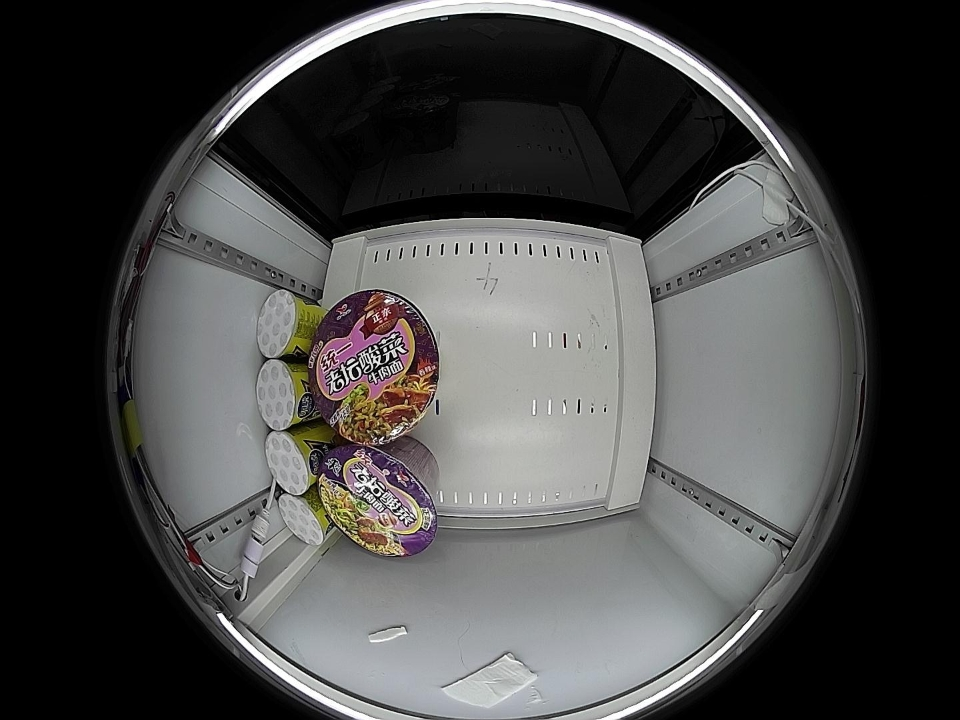kebike: (256, 289, 315, 360), (255, 359, 313, 430), (265, 428, 321, 495), (277, 489, 331, 547)
laotansuancai: (313, 290, 440, 446), (318, 444, 438, 558)
